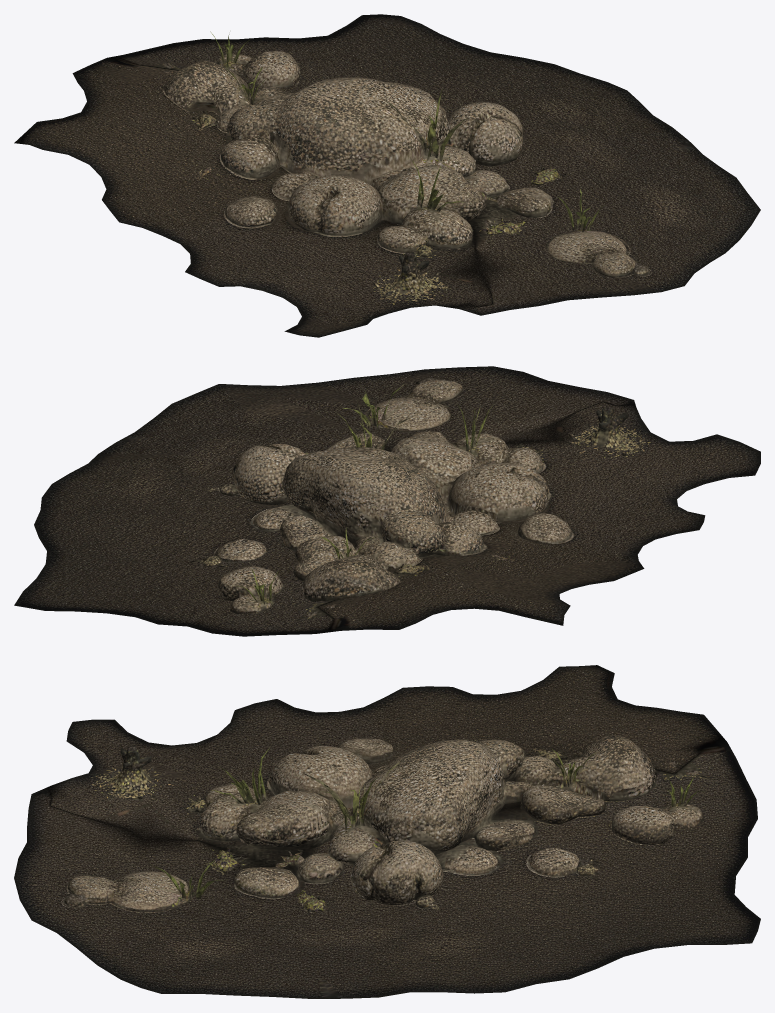
Rendered from rocky+terrain+3d+model.fbx.
3 views of the same model, one above another, from view 1: azimuth 30°, elevation 25°; view 2: azimuth 150°, elevation 25°; view 3: azimuth 270°, elevation 25° (orthographic). The views are drawn at different scales.
Parts seen in each view (by area): view 1: meshes[0]; view 2: meshes[0]; view 3: meshes[0].
Boxes of the visible parts, bbox=[...] form: meshes[0]: bbox=[14, 14, 760, 337]; meshes[0]: bbox=[14, 366, 760, 636]; meshes[0]: bbox=[14, 665, 760, 998].
Size of the model in its own units: 0.9043 by 0.166 by 0.998.
Materials: 1 (1 with a texture image).
